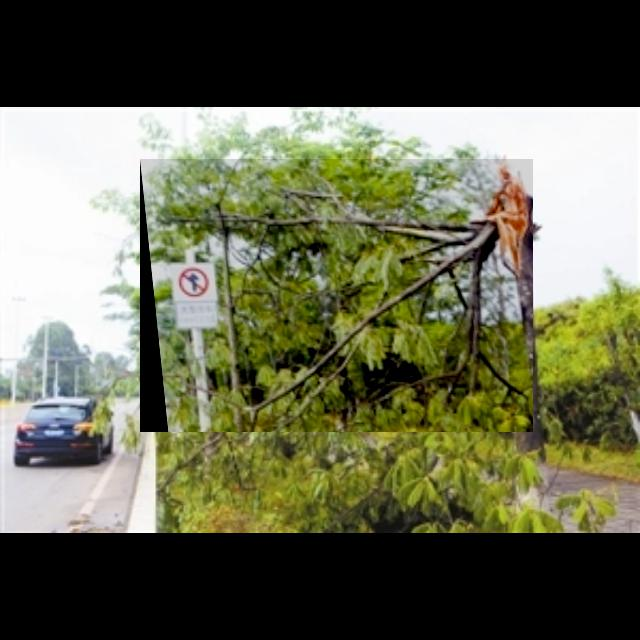Fallen Tree: (140, 159, 534, 433)
